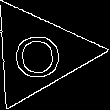O_N: (13, 27, 65, 80)
